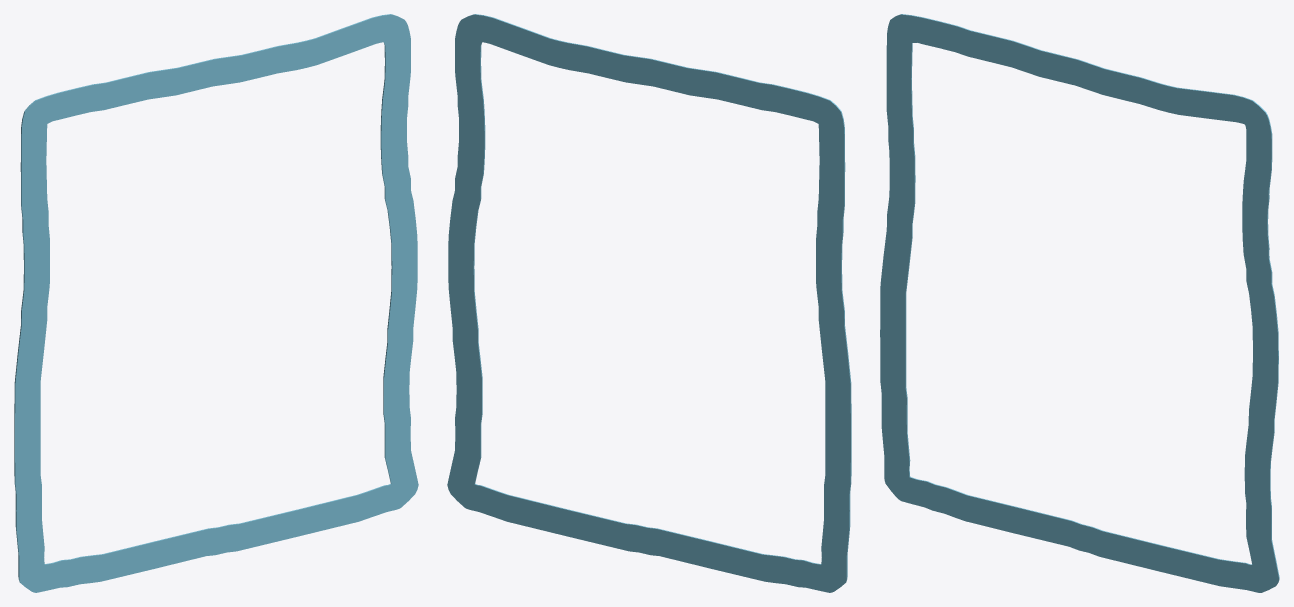
File: tinker.obj
3 views of the same model, side by side, from view 1: azimuth 30°, elevation 25°; view 2: azimuth 150°, elevation 25°; view 3: azimuth 330°, elevation 25° (orthographic).
Visible parts, largest first — view 1: obj_0; view 2: obj_0; view 3: obj_0.
Boxes of the visible parts, box(x1,y1,x2,y2) form: obj_0: box(14, 14, 418, 592); obj_0: box(447, 14, 851, 592); obj_0: box(880, 14, 1279, 592).
Bounding box in the file's own units: 31.66 × 37.61 × 0.1.
